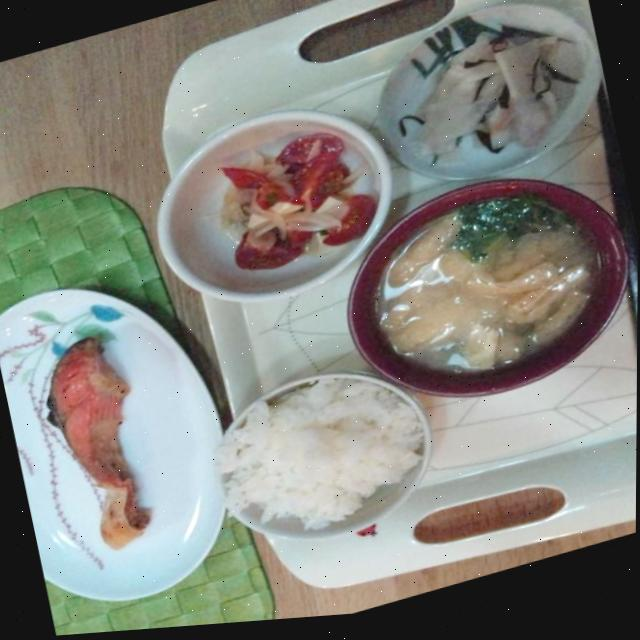汤锅炖物: (312, 141, 639, 449)
熟制海鲜: (0, 239, 274, 634)
米饭主食: (196, 343, 464, 577)
